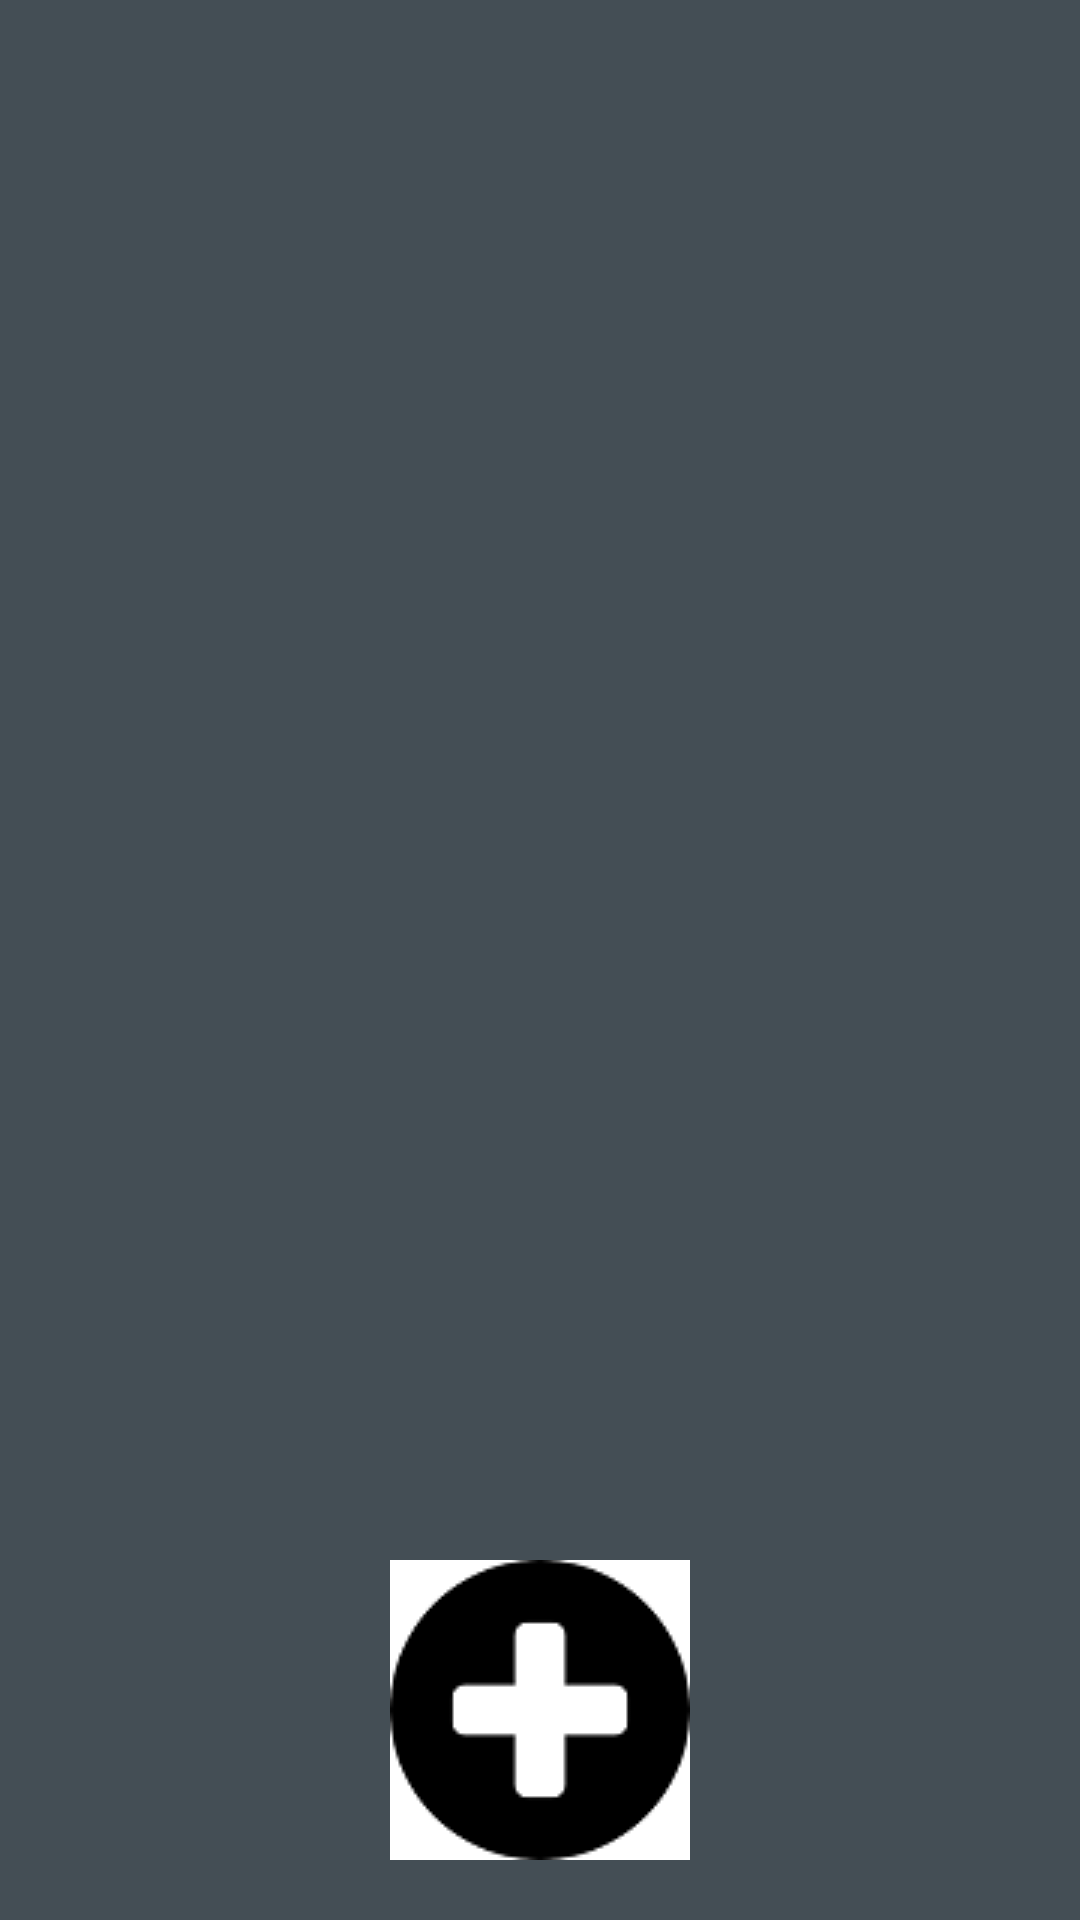

Point at icon controls on the screen. Image size 1080w x 1920h, points as [x,y].
plus: [540,1710]
